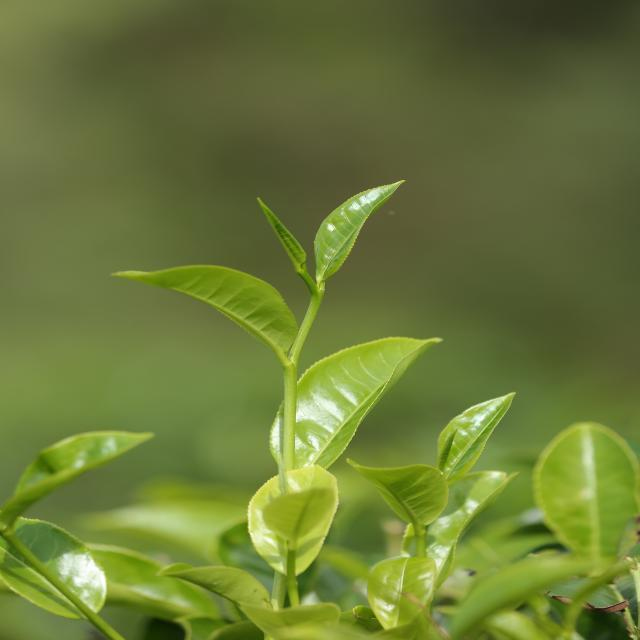Stem: (283, 358, 297, 384)
